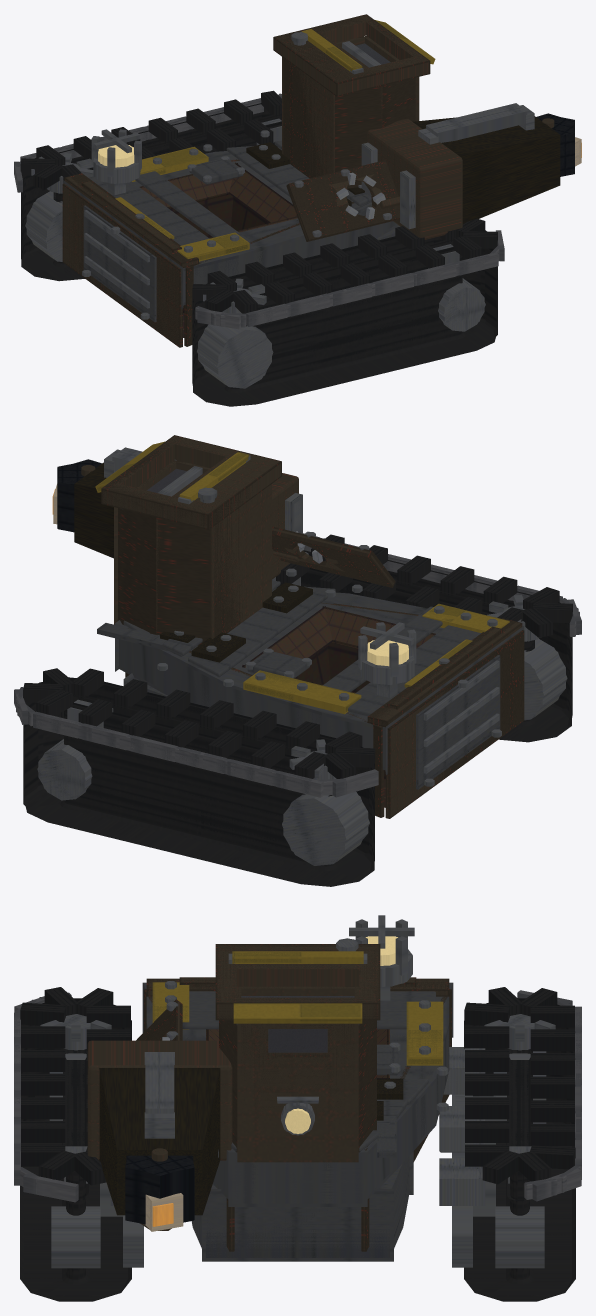
File: place_works_rover.glb
The picture shows the model from 3 angles, top to bottom: view 1: azimuth 30°, elevation 25°; view 2: azimuth 150°, elevation 25°; view 3: azimuth 270°, elevation 25°; orthographic projection. The views are drawn at different scales.
Visible parts, largest first — view 1: LOD0_Merged_Material_Steel, LOD0_Merged_Material_Track, LOD1_Merged_Material_Scar, LOD0_Merged_Material_Scar, LOD1_track_R, LOD0_track_R, LOD1_Merged_Material_Chevron_Boom, LOD0_Merged_Material_Scar_Boom, LOD0_track_L, LOD1_Merged_Material_Steel, LOD1_Merged_Material_Track, LOD1_scar_plate (+12 smaller); view 2: LOD0_Merged_Material_Steel, LOD0_Merged_Material_Track, LOD1_Merged_Material_Scar, LOD0_Merged_Material_Scar, LOD1_track_L, LOD0_track_L, LOD1_Merged_Material_Steel, LOD0_track_R, LOD1_Merged_Material_Track, LOD1_Merged_Material_Livery, LOD0_Merged_Material_Livery, LOD1_track_R (+13 smaller); view 3: LOD0_Merged_Material_Steel, LOD0_Merged_Material_Scar, LOD1_Merged_Material_Steel, LOD0_track_L, LOD0_Merged_Material_Track, LOD1_Merged_Material_Scar, LOD0_track_R, LOD1_Merged_Material_Chevron_Boom, LOD1_track_L, LOD1_track_R, LOD0_Merged_Material_Scar_Boom, LOD0_Merged_Material_Livery (+9 smaller).
Part boxes in pixels (x1,y1,x2,y2): LOD0_Merged_Material_Steel: (26,31,484,388); LOD0_Merged_Material_Track: (14,95,500,405); LOD1_Merged_Material_Scar: (62,14,430,347); LOD0_Merged_Material_Scar: (63,15,428,345); LOD1_track_R: (193,230,496,406); LOD0_track_R: (192,218,497,313); LOD1_Merged_Material_Chevron_Boom: (412,116,560,223); LOD0_Merged_Material_Scar_Boom: (367,118,554,239); LOD0_track_L: (20,90,281,189); LOD1_Merged_Material_Steel: (25,41,485,388); LOD1_Merged_Material_Track: (14,93,504,329); LOD1_scar_plate: (286,160,399,241); LOD0_Merged_Material_Steel: (38,455,565,865); LOD0_Merged_Material_Track: (16,537,579,885); LOD1_Merged_Material_Scar: (101,435,524,818); LOD0_Merged_Material_Scar: (102,436,521,817); LOD1_track_L: (25,677,374,886); LOD0_track_L: (23,668,375,778); LOD1_Merged_Material_Steel: (37,498,567,865); LOD0_track_R: (276,534,572,637); LOD1_Merged_Material_Track: (14,533,581,797); LOD1_Merged_Material_Livery: (95,441,509,714); LOD0_Merged_Material_Livery: (97,442,508,711); LOD1_track_R: (279,550,571,742); LOD0_Merged_Material_Steel: (40,915,555,1268); LOD0_Merged_Material_Scar: (146,944,447,1250); LOD1_Merged_Material_Steel: (51,956,546,1266); LOD0_track_L: (464,987,575,1184); LOD0_Merged_Material_Track: (14,992,581,1297); LOD1_Merged_Material_Scar: (144,944,451,1251); LOD0_track_R: (20,987,130,1185); LOD1_Merged_Material_Chevron_Boom: (99,1068,220,1215); LOD1_track_L: (464,998,575,1301); LOD1_track_R: (20,998,131,1301); LOD0_Merged_Material_Scar_Boom: (87,1040,232,1230); LOD0_Merged_Material_Livery: (154,952,441,1064).
Size of the model in its own units: 1.92 by 1.02 by 1.73.
Materials: 2 (2 with a texture image).
